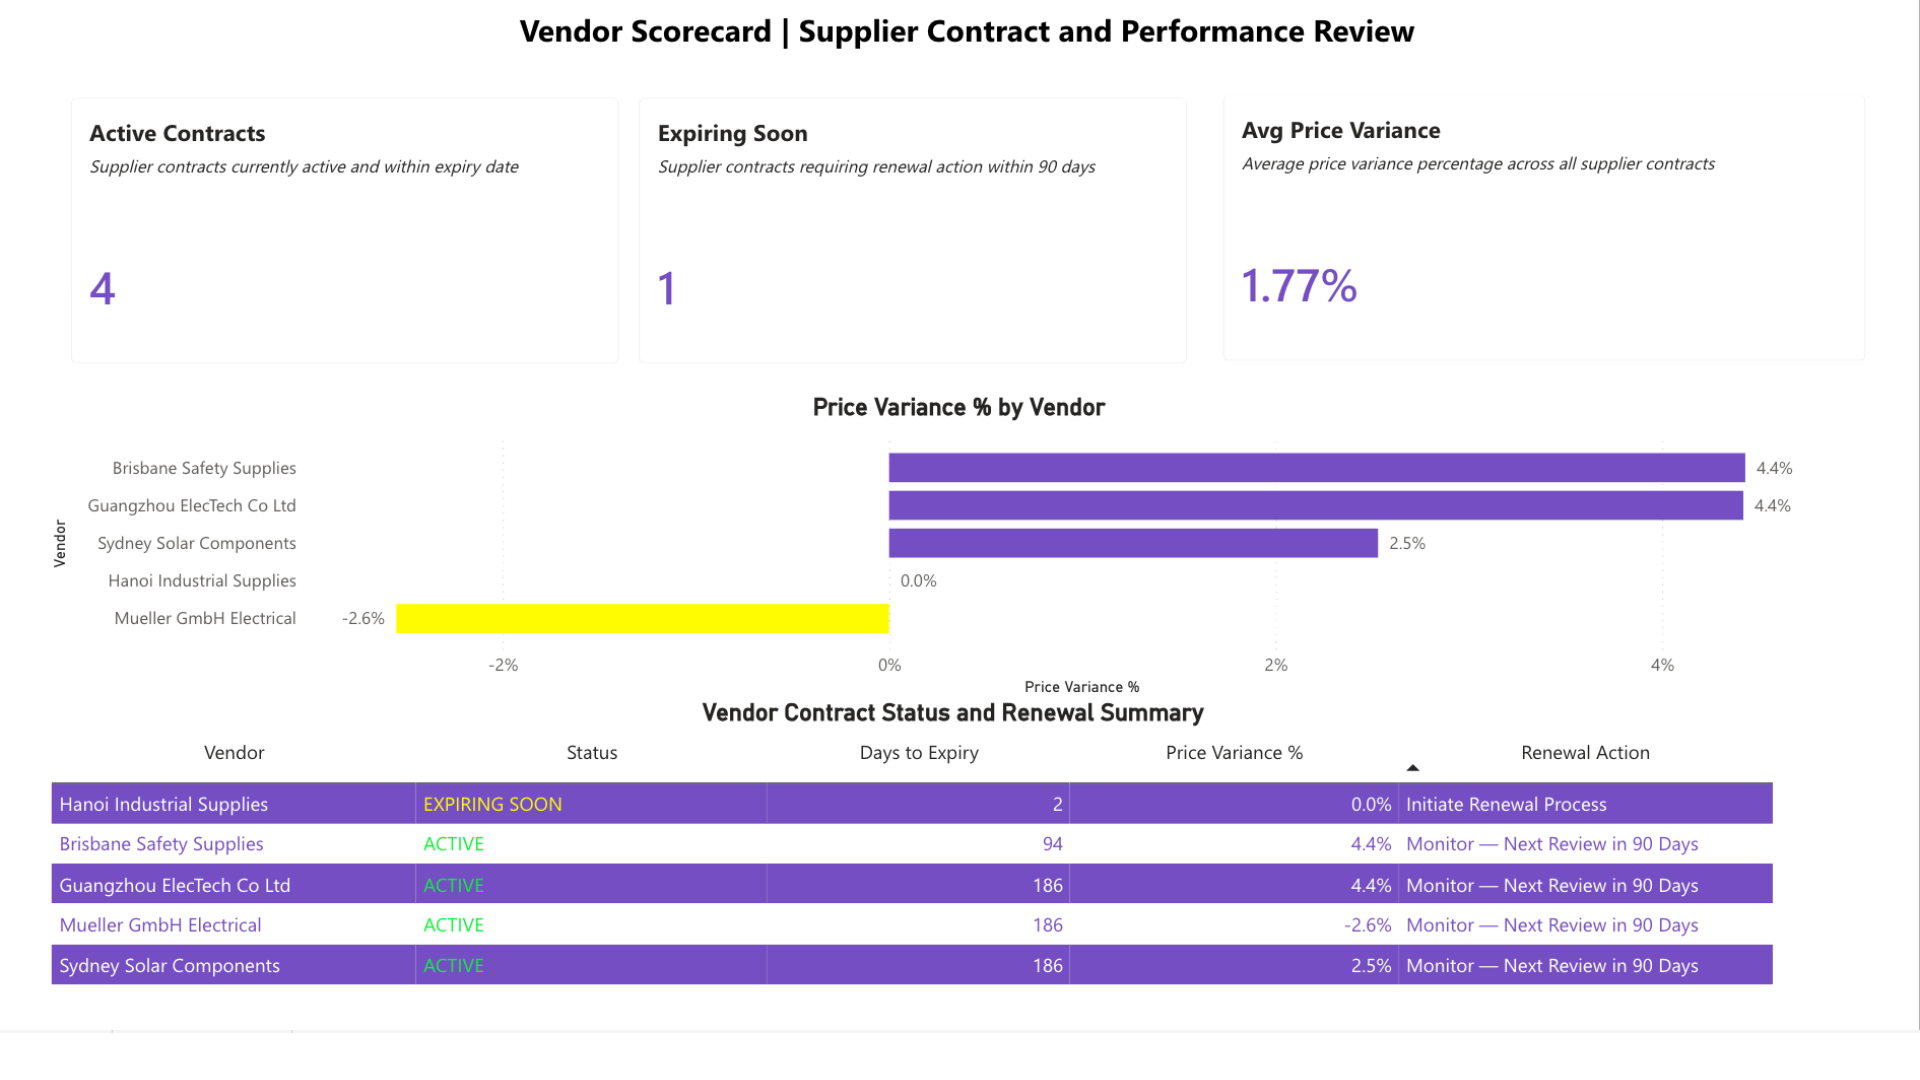

What the dashboard file says about the page in this screenshot:
{"tool":"powerbi","page":{"name":"Vendor Scorecard","canvas":[1280,720],"ordinal":3},"visuals":[{"type":"textbox","box":[10.2,0,1269.8,40.6],"z":0},{"type":"cardVisual","fields":{"Rows":["KPI_Table (Vendor).KPI_name"],"Data":["KPI_Table (Vendor).Vendor KPI Value"]},"box":[0,42.6,805.1,236.1],"z":1000},{"type":"clusteredBarChart","title":"Price Variance % by Vendor","fields":{"Category":["7_Contract_Performance.Vendor_Name"],"Y":["Avg(7_Contract_Performance.Price_Variance_Pct)"]},"box":[0,277.1,1279,213.2],"z":2000},{"type":"tableEx","title":"Vendor Contract Status and Renewal Summary","fields":{"Values":["7_Contract_Performance.Vendor_Name","7_Contract_Performance.Contract_Status","7_Contract_Performance.Days_to_Expiry","7_Contract_Performance.Price_Variance_Pct","7_Contract_Performance.Renewal_Action"]},"box":[0,490.3,1270.8,221.4],"z":3000},{"type":"cardVisual","fields":{"Rows":["KPI_Table (Vendor1).KPI_name"],"Data":["KPI_Table (Vendor1).Vendor KPI Value2"]},"box":[805.1,41,473.9,236.1],"z":4000}]}

Visuals, with their boxes in screenshot pixels (x1, y1, x2, y2), scaled from the page's 1280x720 canvas onto the 1920x1080 screenshot:
textbox: [15,0,1919,61]
cardVisual - KPI_Table (Vendor).KPI_name x KPI_Table (Vendor).Vendor KPI Value: [0,64,1208,418]
"Price Variance % by Vendor" clusteredBarChart: [0,416,1918,735]
"Vendor Contract Status and Renewal Summary" tableEx: [0,735,1906,1068]
cardVisual - KPI_Table (Vendor1).KPI_name x KPI_Table (Vendor1).Vendor KPI Value2: [1208,62,1918,416]
